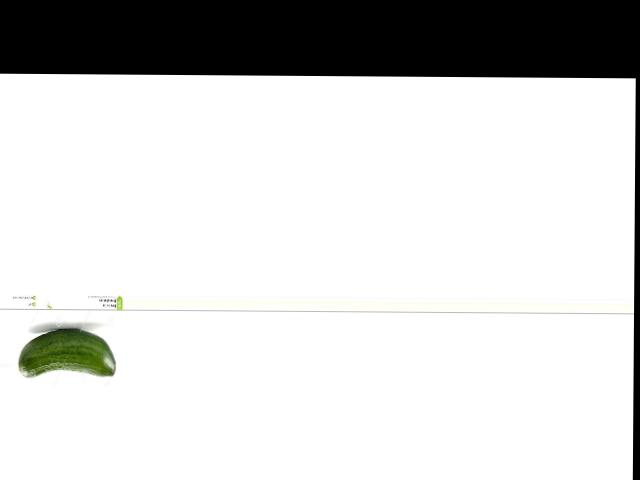cucumber: (18, 328, 115, 377)
